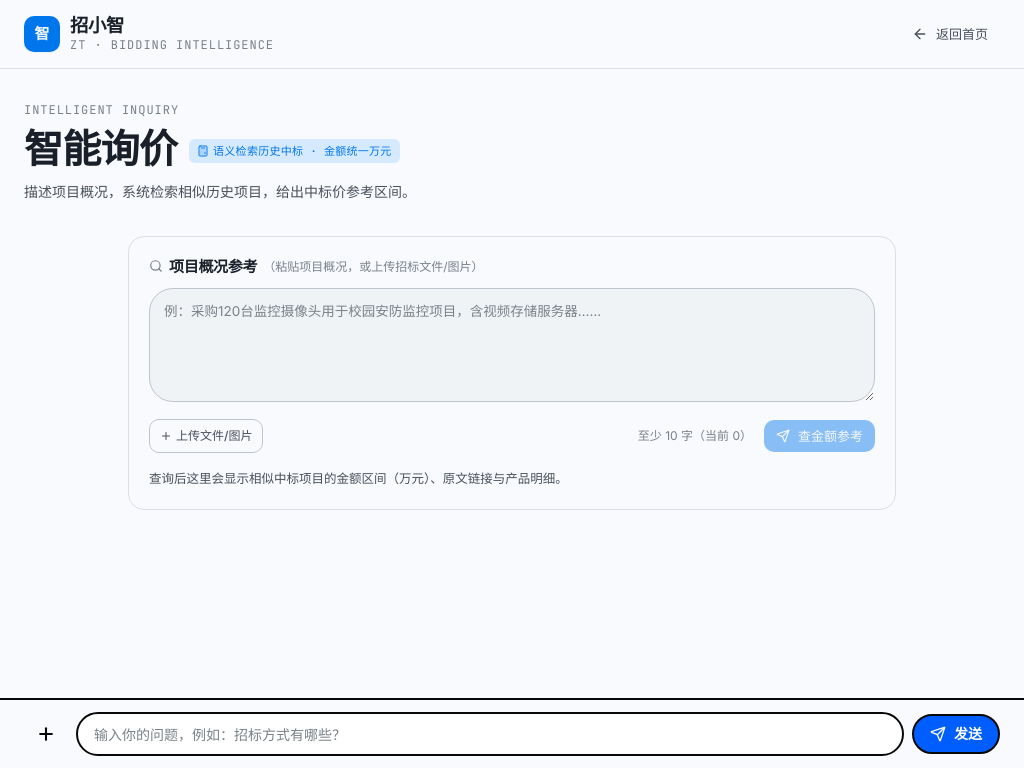
Test case: 智能询价页 › 提交概况 → 金额区间卡与相似项目卡出现（整页链路）
Type "采购120台监控摄像头用于校园安防监控项目" into the text box named "项目概况文本". click: (512, 345)
box: top-left (149, 288), bottom-right (875, 402)
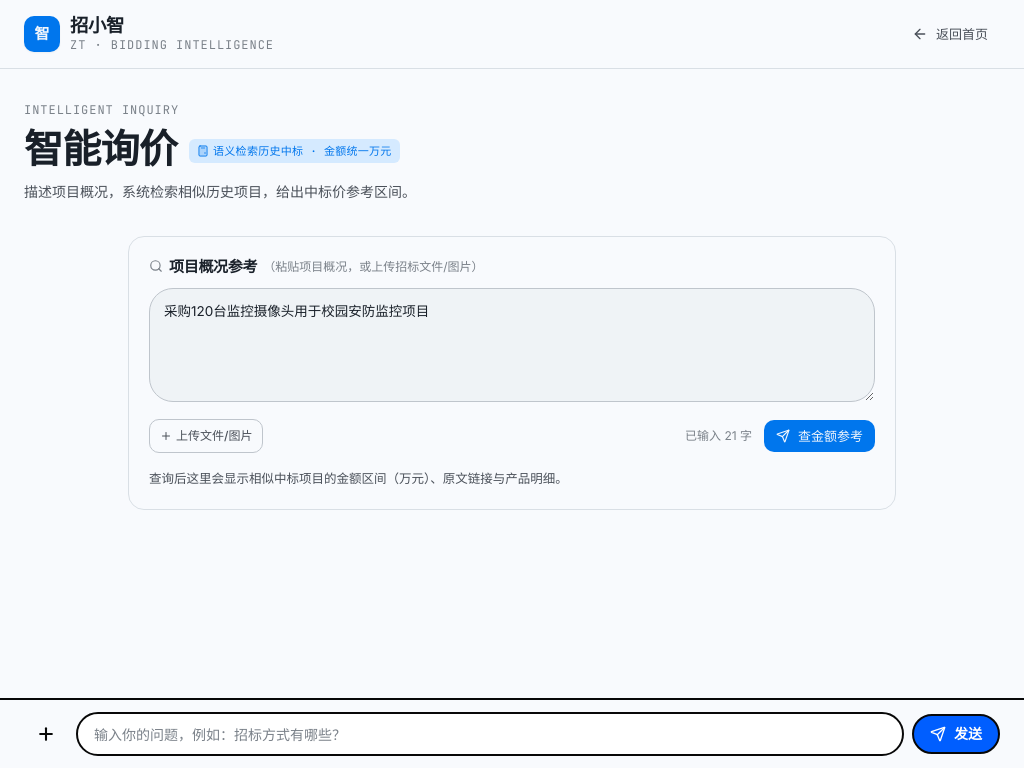
Click the button "查金额参考". click: (820, 436)
box: top-left (764, 420), bottom-right (875, 452)
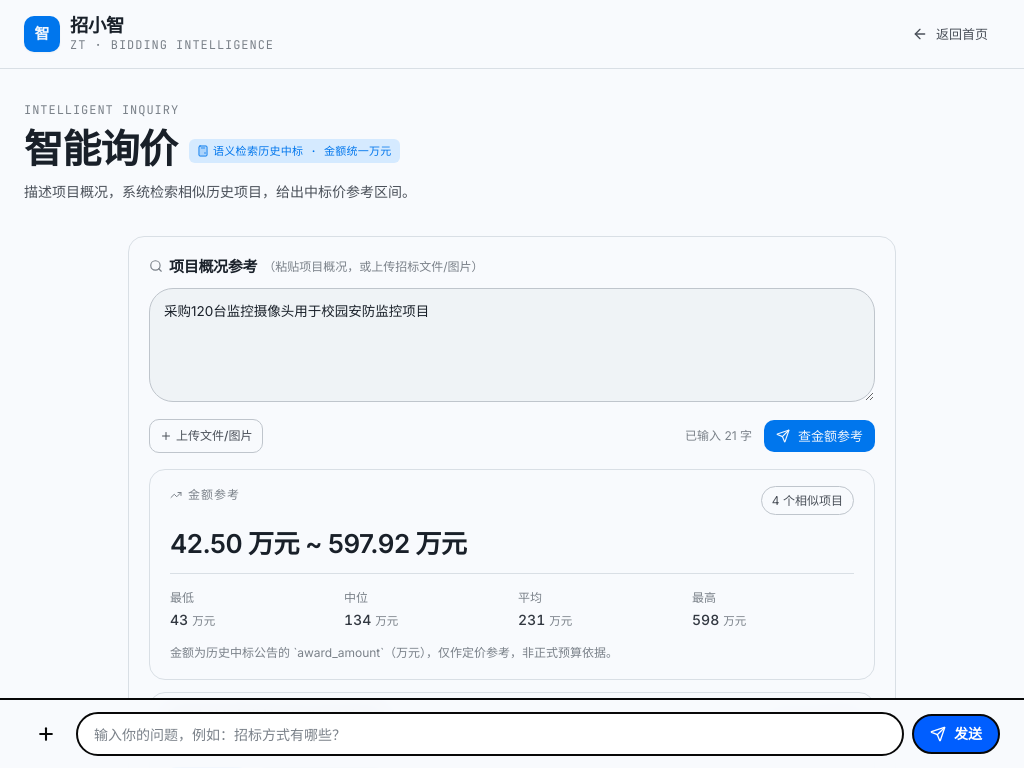
expect the heading "校园安防视频监控系统升级改造项目" is shown: met, box top-left (166, 708), bottom-right (386, 726)
expect the text "42.50 万元 ~ 597.92 万元" is shown: met, box top-left (170, 528), bottom-right (467, 559)
